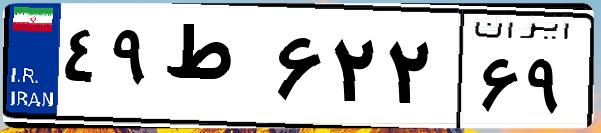2: (385, 28, 445, 110), (330, 28, 385, 110)
4: (57, 26, 110, 100)
6: (270, 28, 330, 110), (475, 38, 525, 113)
9: (525, 38, 570, 115), (110, 28, 158, 98)
ط: (158, 20, 270, 120)
